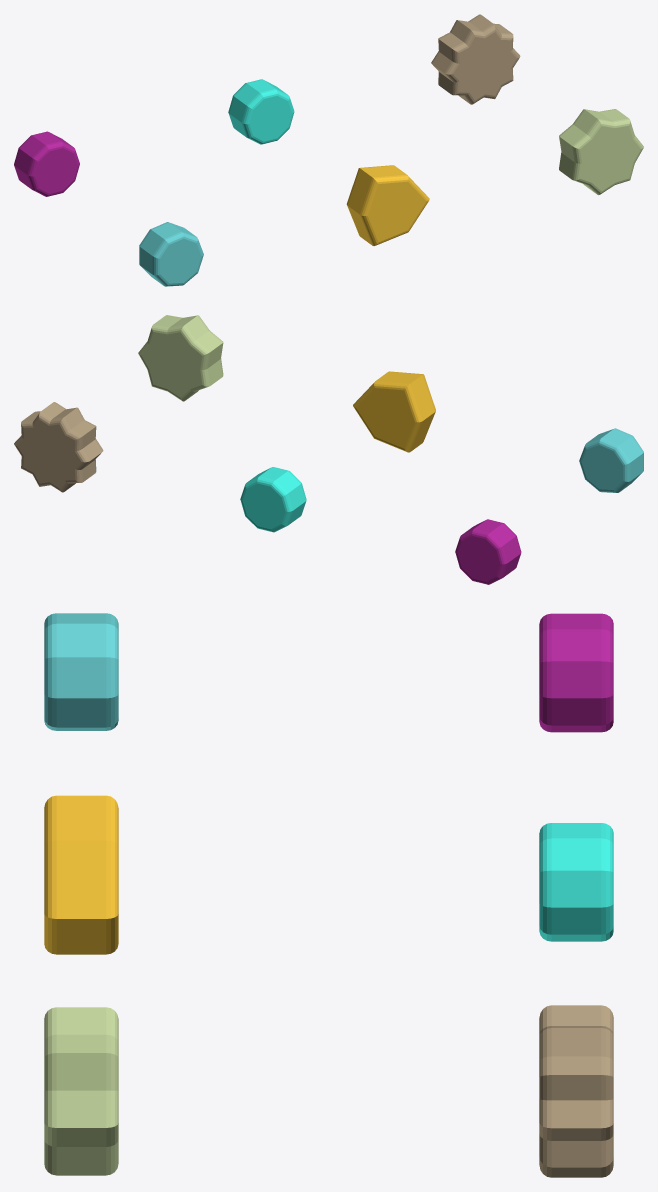
The model's file is Standard Texturized_Linear_2023-07-23-20-47-45.gltf.
3 views of the same model, one above another, from view 1: azimuth 30°, elevation 25°; view 2: azimuth 150°, elevation 25°; view 3: azimuth 270°, elevation 25° (orthographic). The views are drawn at different scales.
Size of the model in its own units: 459 by 67.85 by 230.
